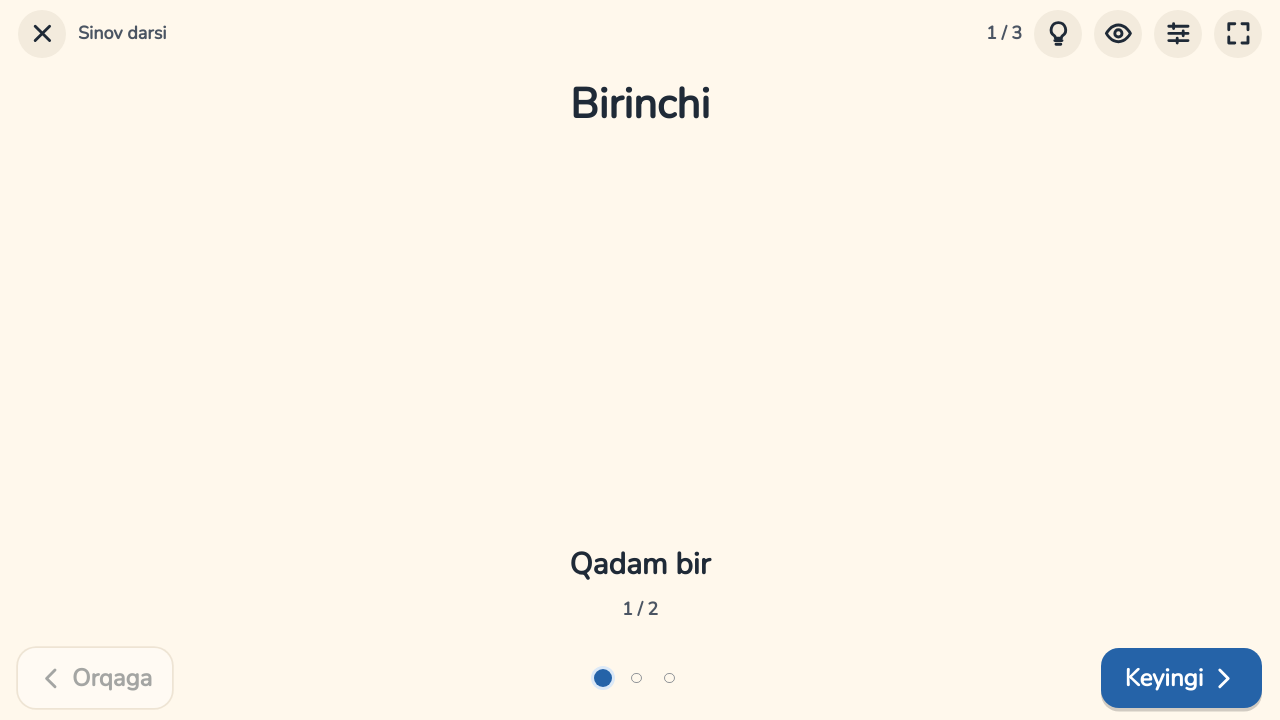
Player › J javobni ochadi
Click the button named "3-sahna": (670, 678) top-left (656, 665), bottom-right (683, 691)
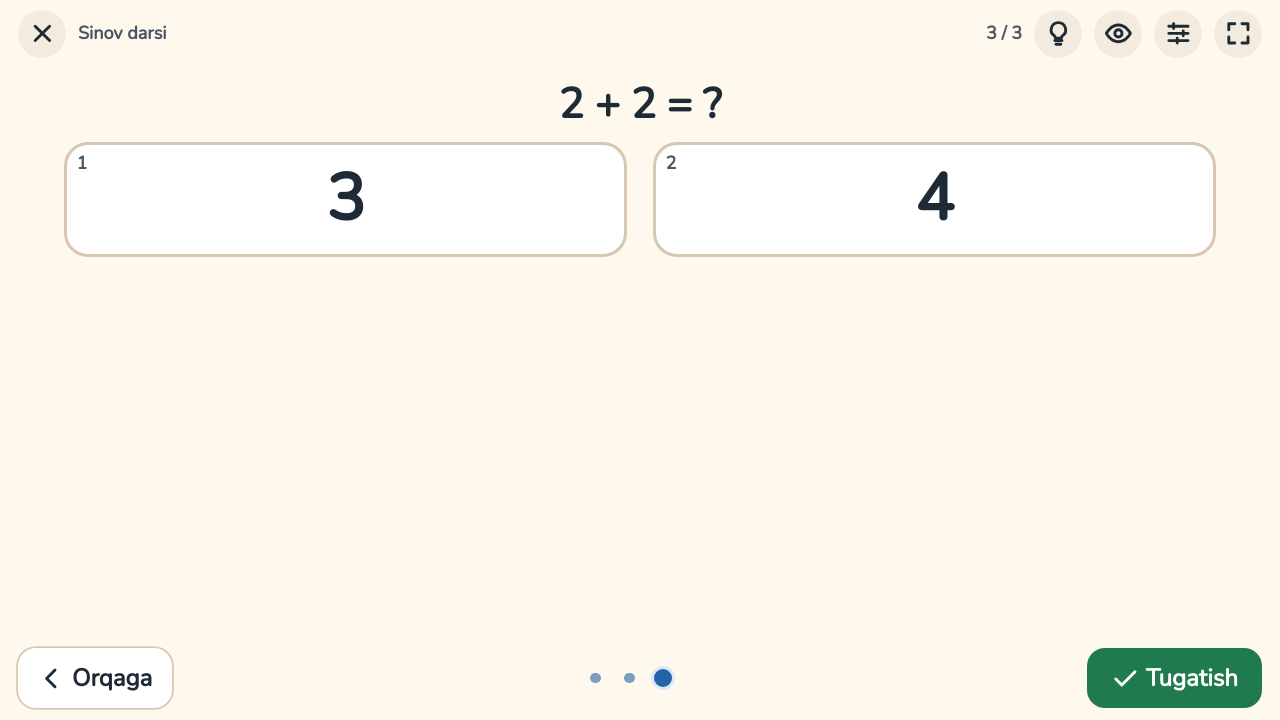
Check: the heading "2 + 2 = ?" is shown, box top-left (559, 82), bottom-right (721, 128)
Press j
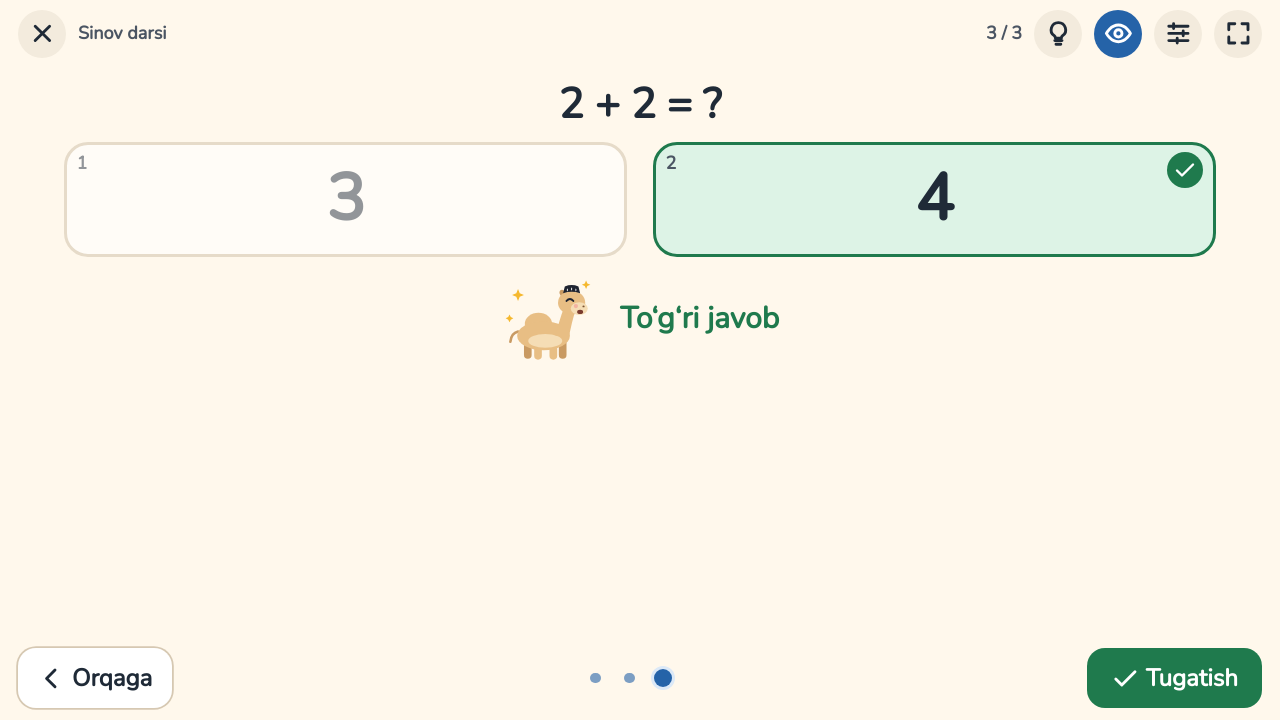
Check: the text "To‘g‘ri javob" is shown, box top-left (620, 300), bottom-right (779, 337)
